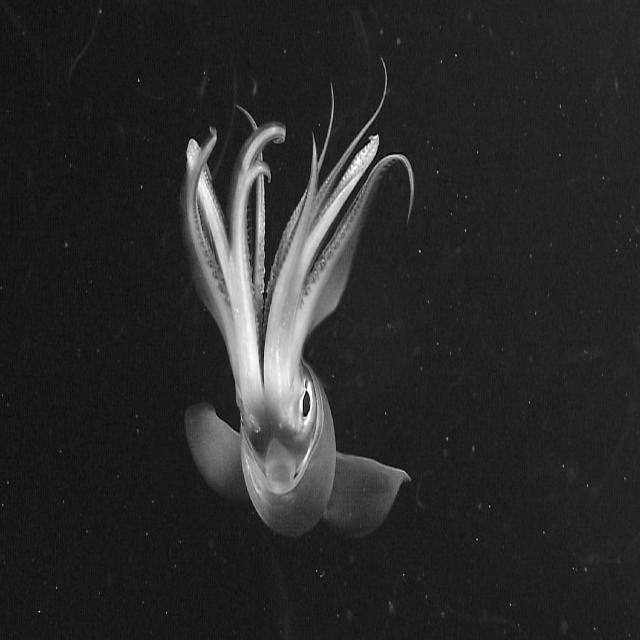SQUID: (120, 45, 466, 567)
